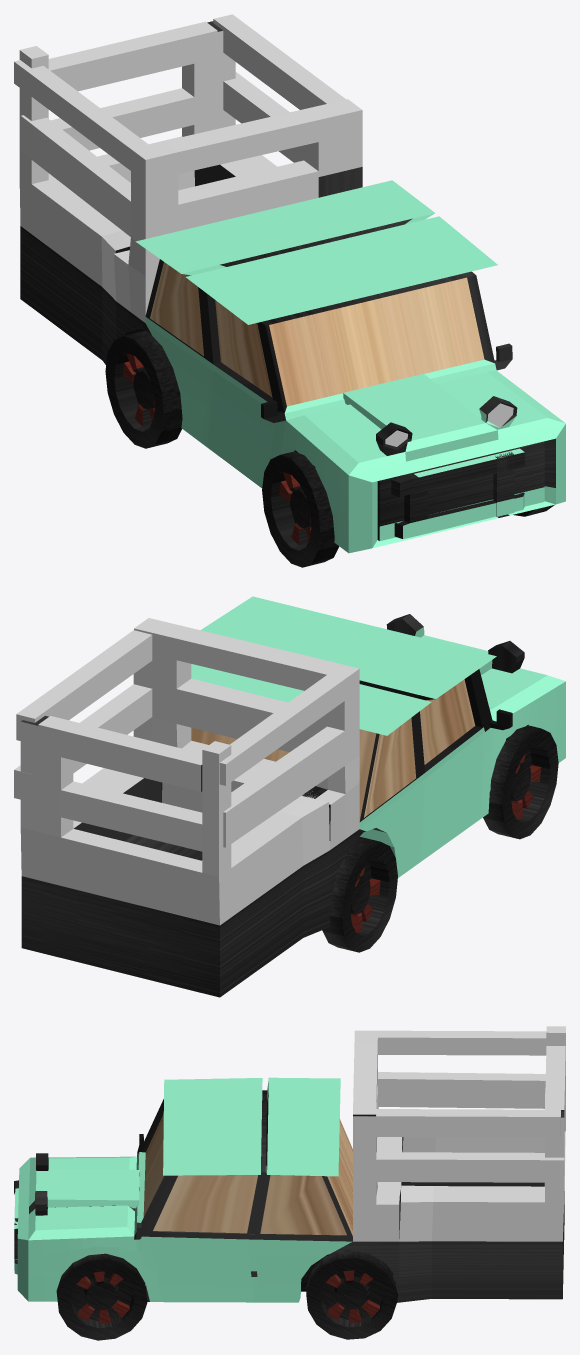
The model's file is car3.fbx.
3 views of the same model, one above another, from view 1: azimuth 30°, elevation 25°; view 2: azimuth 150°, elevation 25°; view 3: azimuth 270°, elevation 25° (orthographic). The views are drawn at different scales.
Visible parts, largest first — view 1: Cylinder.015; view 2: Cylinder.015; view 3: Cylinder.015.
Boxes of the visible parts, left/top/right/bottom form: Cylinder.015: left=14, top=14, right=565, bottom=567; Cylinder.015: left=14, top=596, right=565, bottom=997; Cylinder.015: left=14, top=1026, right=565, bottom=1340.
Size of the model in its own units: 29.87 by 32.86 by 71.12.
